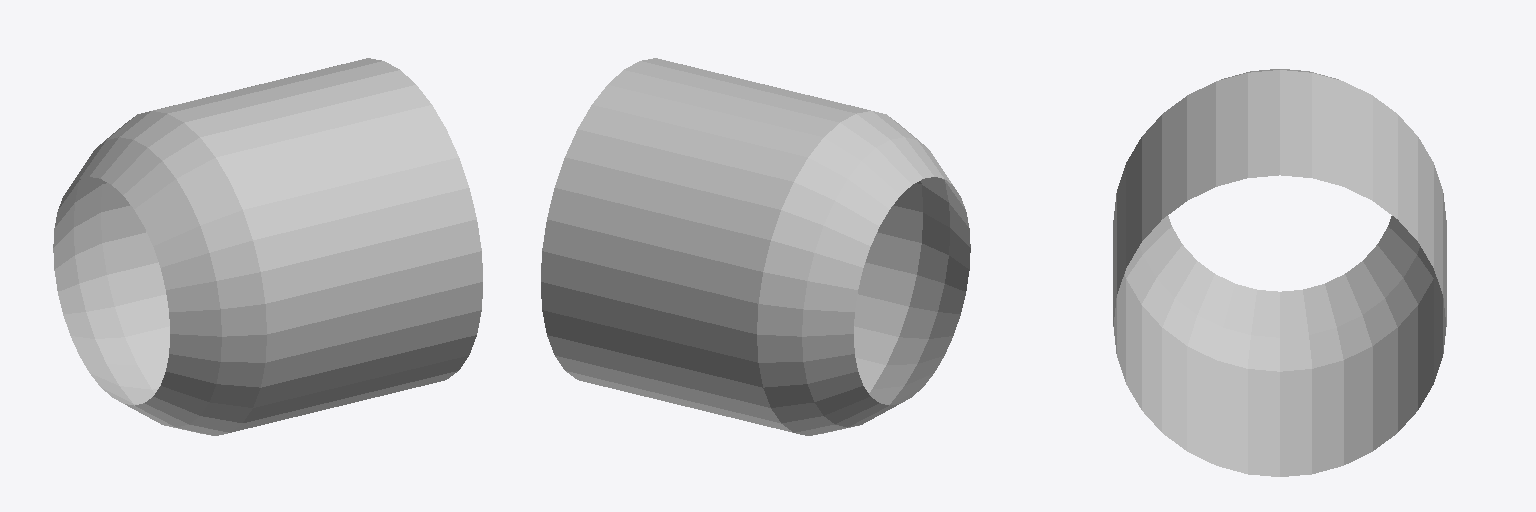
The model's file is beam-cylinder-1-mesh.obj.
3 views of the same model, side by side, from view 1: azimuth 30°, elevation 25°; view 2: azimuth 150°, elevation 25°; view 3: azimuth 270°, elevation 25° (orthographic).
Visible parts, largest first — view 1: Cylinder; view 2: Cylinder; view 3: Cylinder.
Part boxes in pixels (bbox=[...]): Cylinder: bbox=[53, 58, 482, 435]; Cylinder: bbox=[541, 58, 970, 435]; Cylinder: bbox=[1113, 69, 1446, 476].
Bounding box in the file's own units: 2 × 2 × 2.